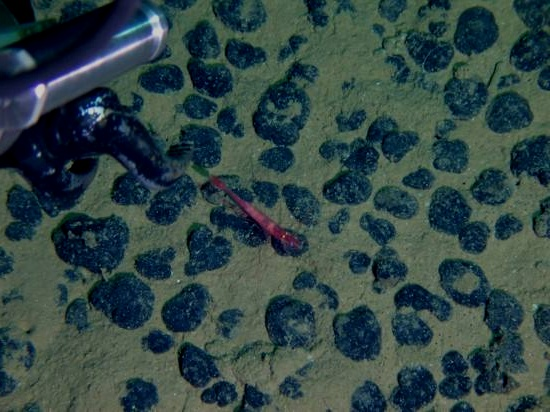halobolite: (243, 67, 317, 143), (334, 295, 385, 364), (264, 297, 318, 349), (169, 338, 224, 389), (402, 30, 458, 79), (162, 283, 218, 330), (421, 186, 472, 237), (32, 162, 83, 212), (88, 223, 135, 275), (97, 281, 159, 319), (113, 364, 160, 412), (509, 130, 550, 185), (370, 180, 425, 220), (78, 185, 121, 236), (483, 297, 530, 343), (283, 185, 327, 230), (57, 291, 98, 339), (398, 282, 448, 321), (369, 251, 413, 295), (441, 78, 489, 118), (291, 1, 353, 31), (334, 129, 372, 176), (181, 123, 225, 163), (449, 219, 495, 257), (229, 180, 266, 227), (470, 162, 511, 204), (509, 28, 549, 70), (179, 172, 228, 206), (393, 312, 436, 350), (458, 14, 502, 51), (484, 100, 533, 132), (132, 184, 178, 218), (271, 32, 314, 68), (146, 249, 181, 293), (395, 368, 435, 406), (117, 312, 163, 345), (344, 375, 384, 412), (188, 60, 227, 97), (182, 21, 227, 53), (156, 212, 193, 249), (355, 210, 399, 241), (306, 299, 336, 343), (239, 377, 279, 410), (375, 123, 419, 152), (142, 65, 183, 95), (111, 162, 154, 190), (252, 146, 295, 174), (6, 186, 42, 219), (328, 102, 368, 131), (199, 378, 233, 412), (82, 136, 116, 170), (1, 246, 36, 279), (213, 305, 245, 341), (61, 220, 93, 255), (225, 39, 262, 68), (177, 92, 214, 121), (341, 246, 375, 277), (169, 144, 203, 175), (439, 349, 474, 378), (178, 246, 210, 276), (270, 176, 300, 208), (287, 267, 321, 294), (494, 211, 523, 242), (1, 1, 34, 27), (199, 206, 225, 239), (1, 367, 25, 401), (283, 379, 312, 406), (4, 222, 32, 247), (188, 1, 216, 21), (1, 68, 11, 93)
